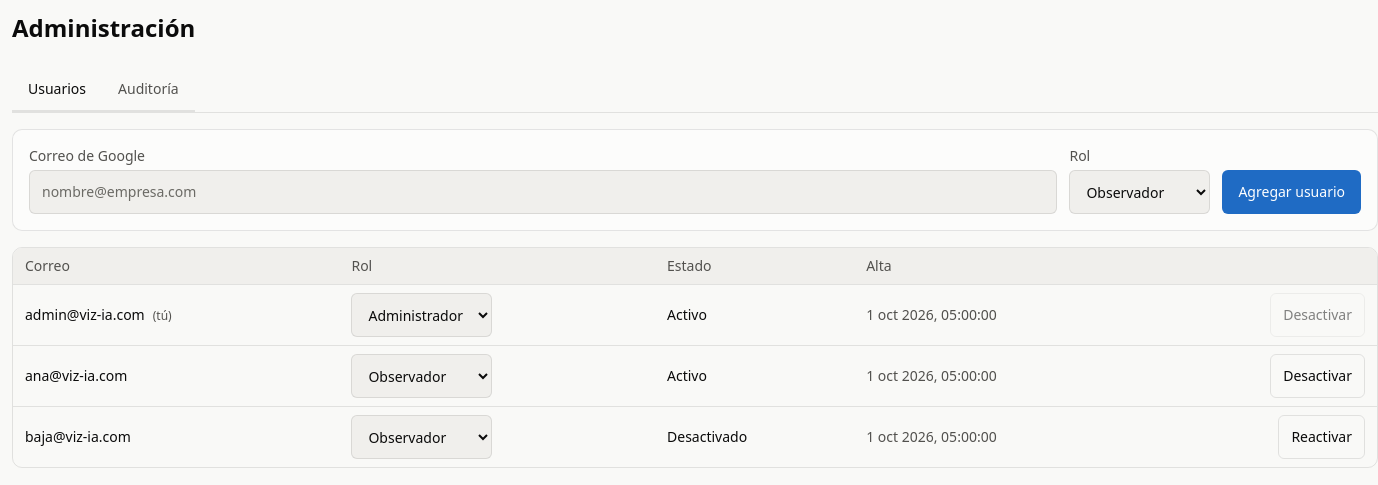
AdminPage - auditoría › sin registros: estado vacío
Click the tab "Auditoría".
click(148, 90)  # box [102,68,195,112]
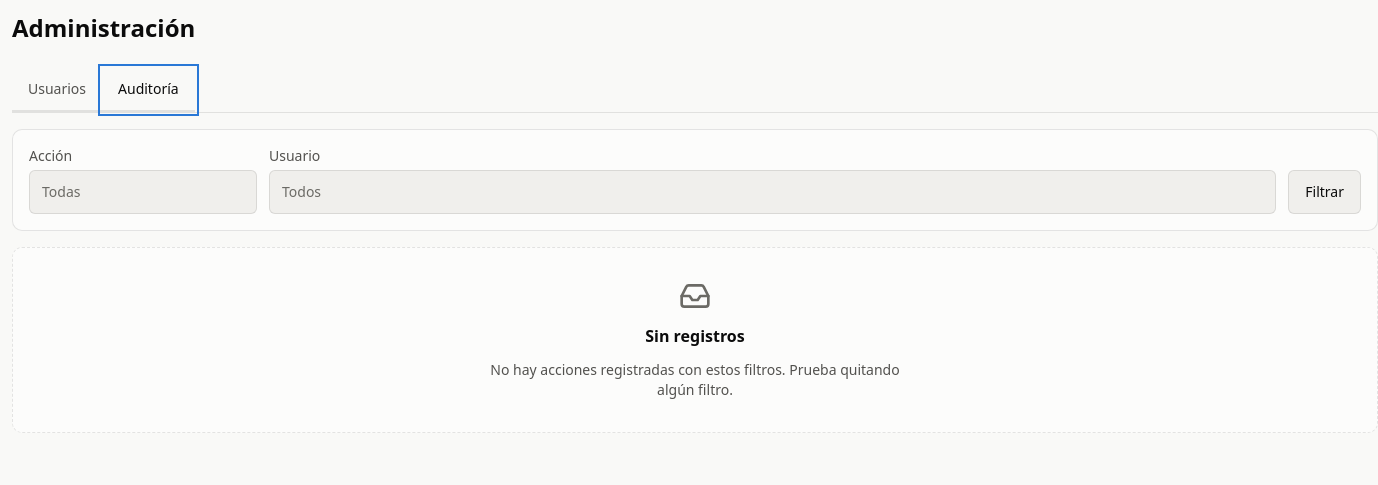
Expected: the heading "Sin registros" is shown, [645,324,745,348]
